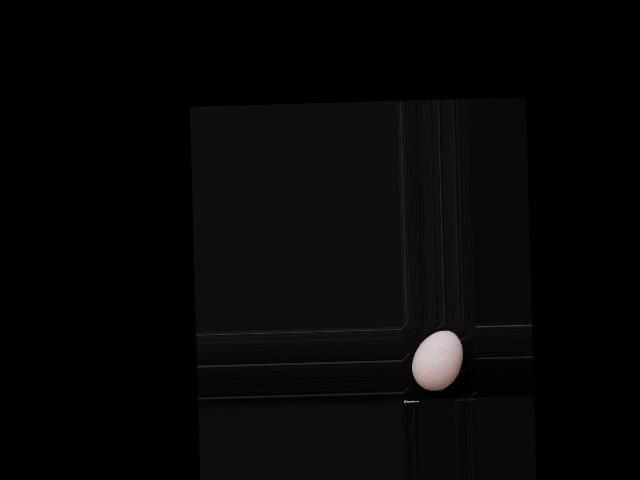egg: (411, 330, 464, 391)
